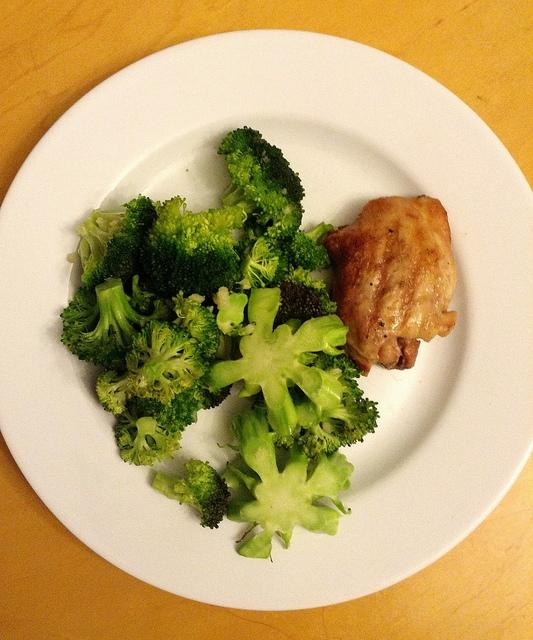broccoli: (209, 286, 356, 449), (216, 406, 355, 560), (141, 196, 244, 308), (61, 277, 170, 378), (217, 126, 306, 240), (126, 319, 211, 408), (78, 193, 158, 285), (152, 458, 231, 529), (267, 264, 337, 332), (113, 404, 182, 466), (172, 290, 221, 364), (133, 384, 206, 433), (322, 393, 380, 447), (234, 237, 288, 290), (282, 221, 338, 271), (93, 368, 135, 416)
